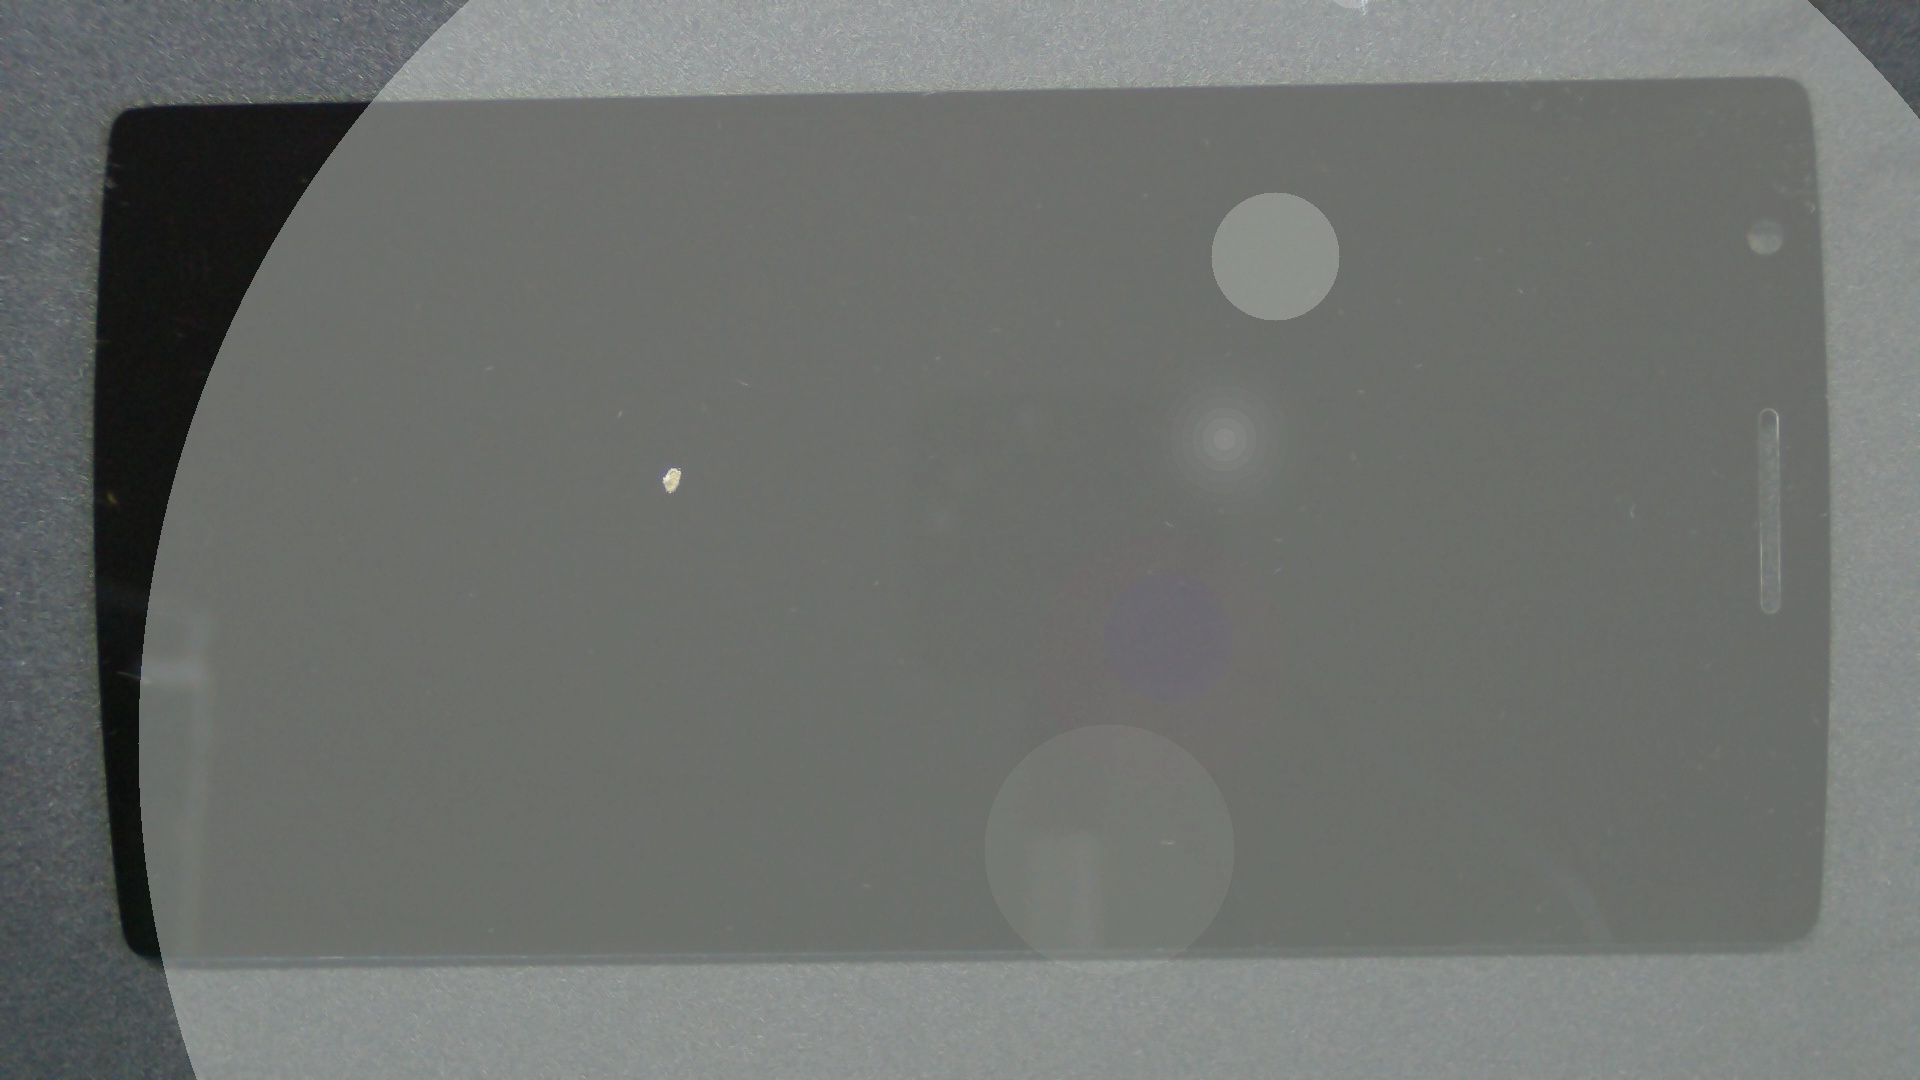oil: (338, 232, 1009, 699)
